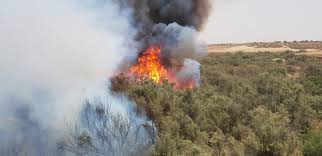fire: (125, 42, 186, 88)
